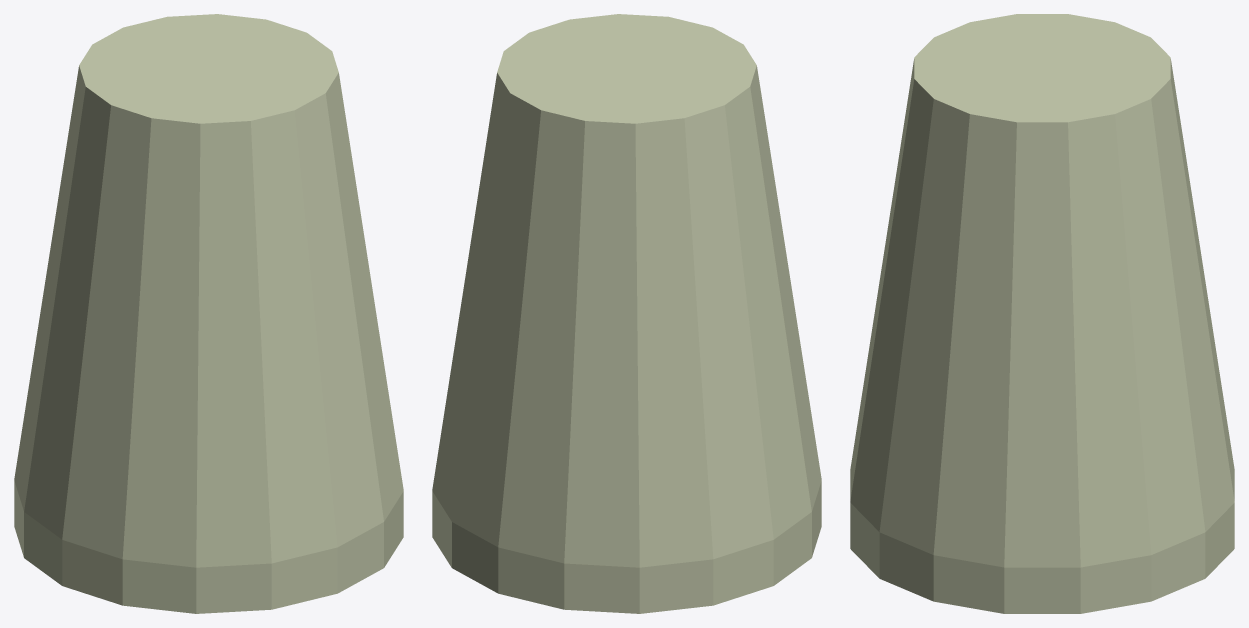
File: blue_streak_fuel_tank_s1p5_s1_2_collider.obj
3 views of the same model, side by side, from view 1: azimuth 30°, elevation 25°; view 2: azimuth 150°, elevation 25°; view 3: azimuth 270°, elevation 25° (orthographic).
Parts seen in each view (by area): view 1: collider; view 2: collider; view 3: collider.
Boxes of the visible parts, <box> form: collider: <box>14,14,403,613</box>; collider: <box>432,14,821,613</box>; collider: <box>850,14,1234,613</box>.
Size of the model in its own units: 1.88 by 2.5 by 1.88.
